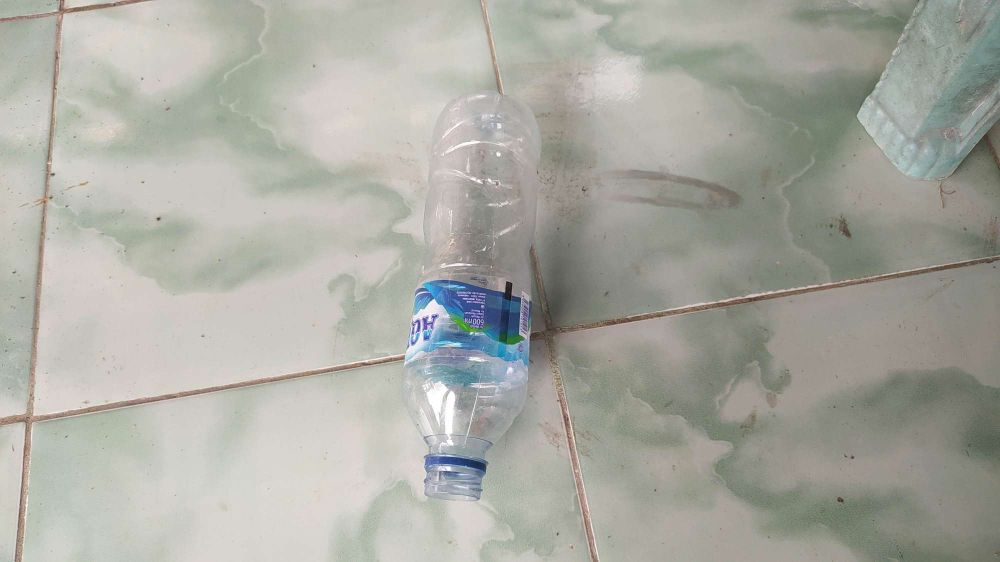botol: (396, 57, 554, 561)
